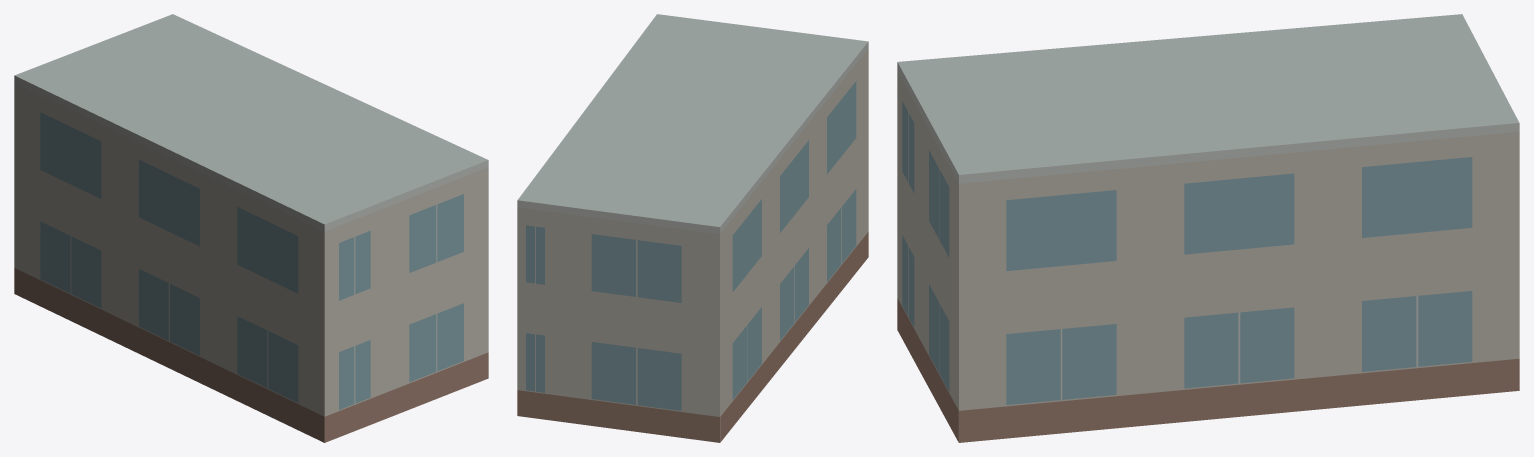
The model's file is survey-upis-32630094.glb.
3 renders of one model, left to right at view 1: azimuth 30°, elevation 25°; view 2: azimuth 150°, elevation 25°; view 3: azimuth 270°, elevation 25°, orthographic. The views are drawn at different scales.
Visible parts, largest first — view 1: survey-upis-32630094.tmp; view 2: survey-upis-32630094.tmp; view 3: survey-upis-32630094.tmp.
Boxes of the visible parts, bbox=[...] form: survey-upis-32630094.tmp: bbox=[14, 14, 488, 442]; survey-upis-32630094.tmp: bbox=[517, 14, 868, 442]; survey-upis-32630094.tmp: bbox=[897, 14, 1519, 442].
Size of the model in its own units: 9.68 by 7.5 by 15.8.
